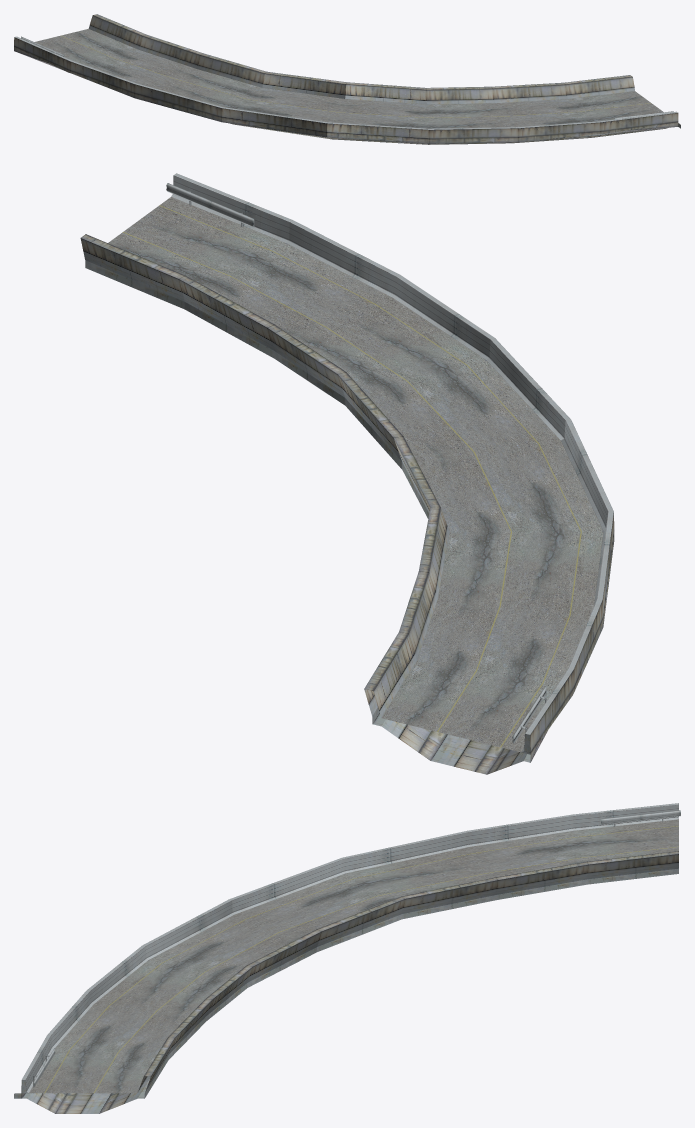
The model's file is Highway_Road_Part_09.fbx.
3 views of the same model, one above another, from view 1: azimuth 30°, elevation 25°; view 2: azimuth 150°, elevation 25°; view 3: azimuth 270°, elevation 25° (orthographic). The views are drawn at different scales.
Parts seen in each view (by area): view 1: Highway_Road_Part_09; view 2: Highway_Road_Part_09; view 3: Highway_Road_Part_09.
Part boxes in pixels (x1,y1,x2,y2): Highway_Road_Part_09: (14, 14, 680, 144); Highway_Road_Part_09: (80, 173, 614, 774); Highway_Road_Part_09: (14, 803, 680, 1113).
Size of the model in its own units: 4323 by 274 by 4396.
